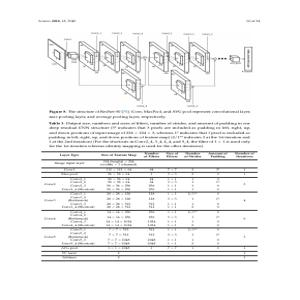diagram: (30, 31, 255, 114)
table: (42, 149, 261, 266)
text: (47, 118, 256, 149)
